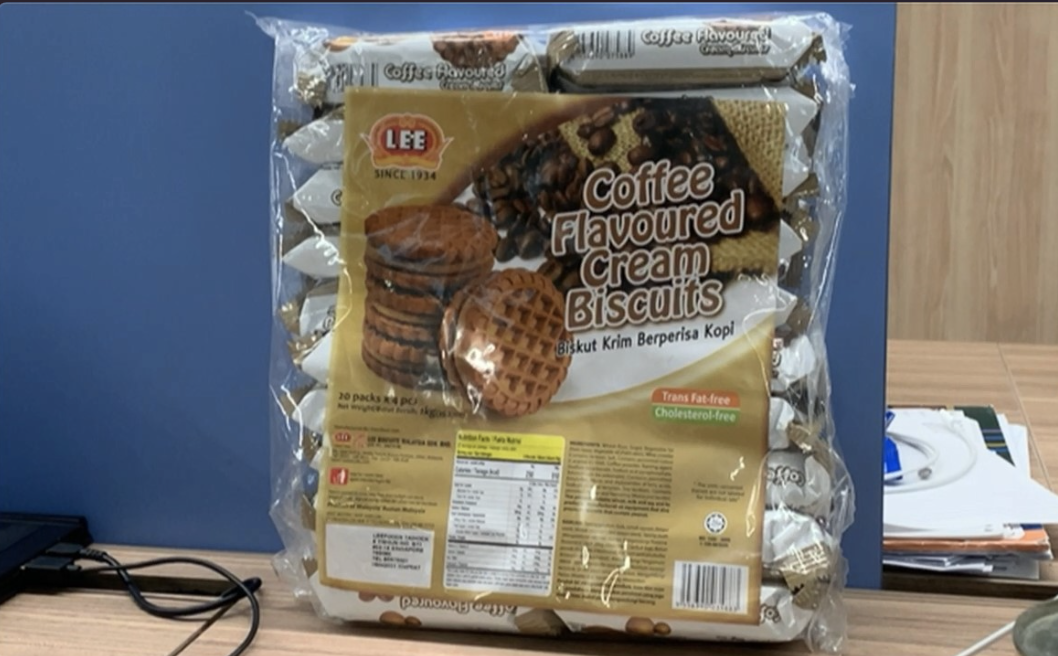cookies_1kg-1.99kg: (355, 126, 763, 600)
